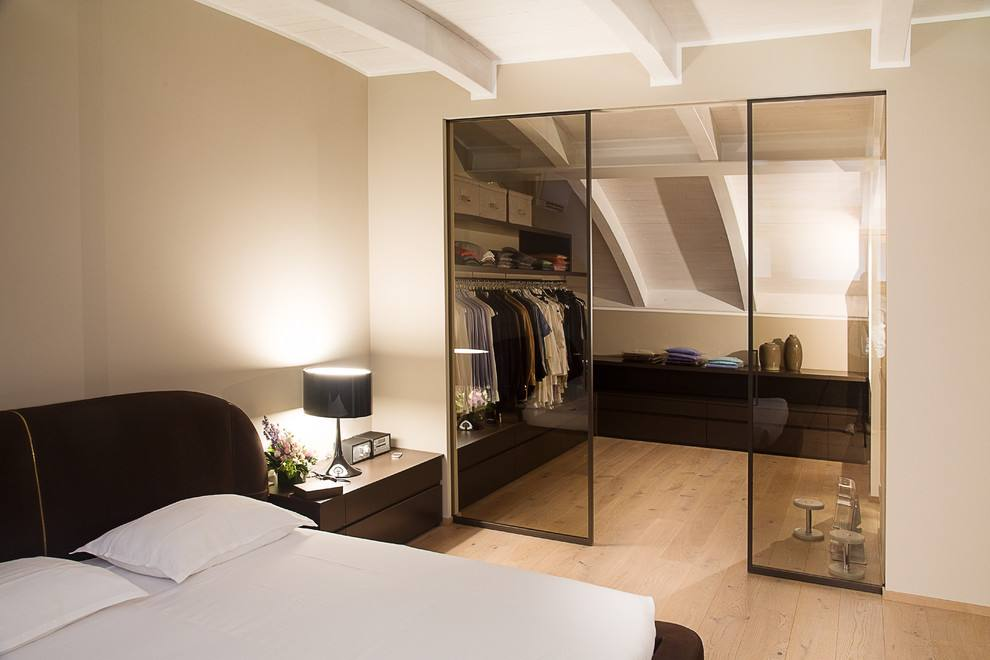床: (1, 512, 655, 660)
枕头: (88, 501, 321, 588)
灯: (291, 362, 369, 489)
